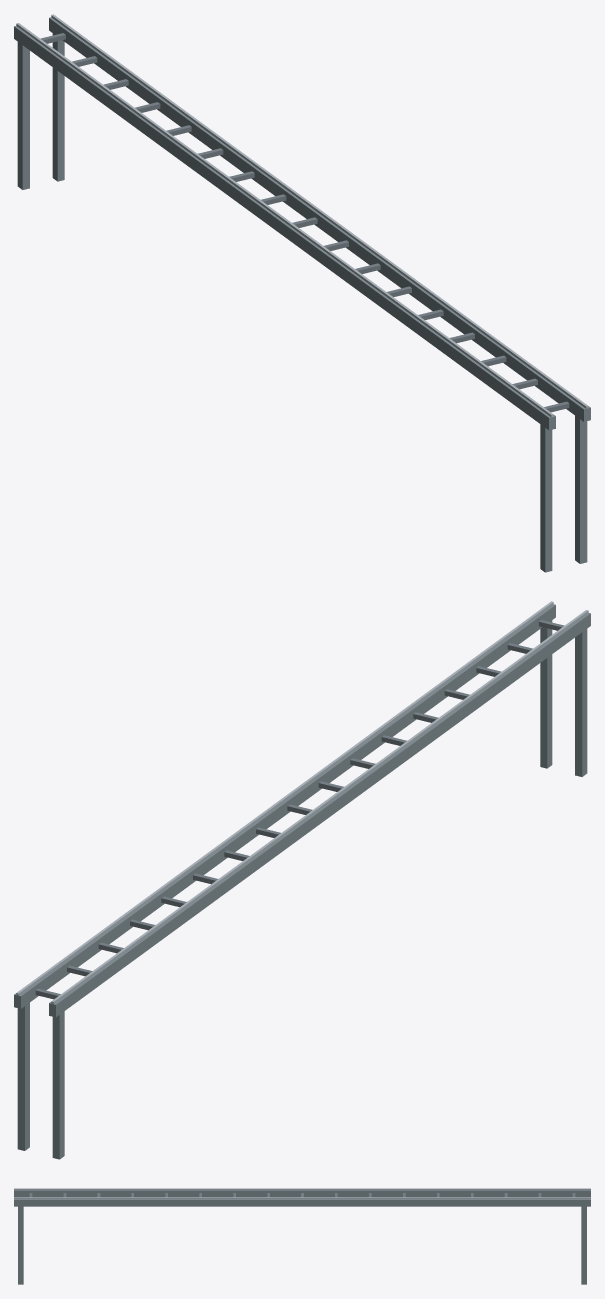
Rendered from inspection_crossbeam.dae.
3 renders of one model, top to bottom at view 1: azimuth 30°, elevation 25°; view 2: azimuth 150°, elevation 25°; view 3: azimuth 270°, elevation 25°, orthographic. The views are drawn at different scales.
Parts seen in each view (by area): view 1: inspection_crossbeam; view 2: inspection_crossbeam; view 3: inspection_crossbeam.
Part boxes in pixels (bbox=[...]): inspection_crossbeam: bbox=[14, 14, 590, 572]; inspection_crossbeam: bbox=[14, 601, 590, 1159]; inspection_crossbeam: bbox=[14, 1188, 590, 1284].
Size of the model in its own units: 0.77 by 17 by 2.8.
